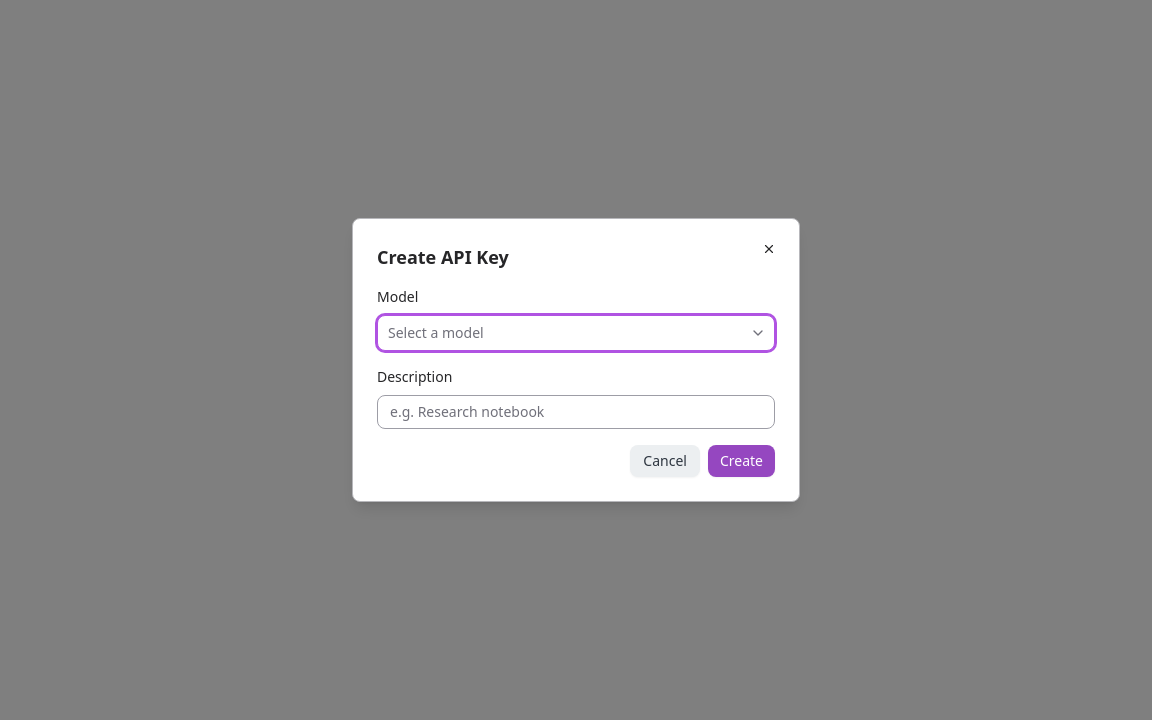
CreateKeyDialog (Nebari Base UI Select) › opens the model select, lists namespaced models, and reflects the choice
Expected: the heading "Create API Key" is shown, [377, 245, 509, 269]
Click the dropdown labelled "model" at (436, 332), box [377, 315, 775, 351]
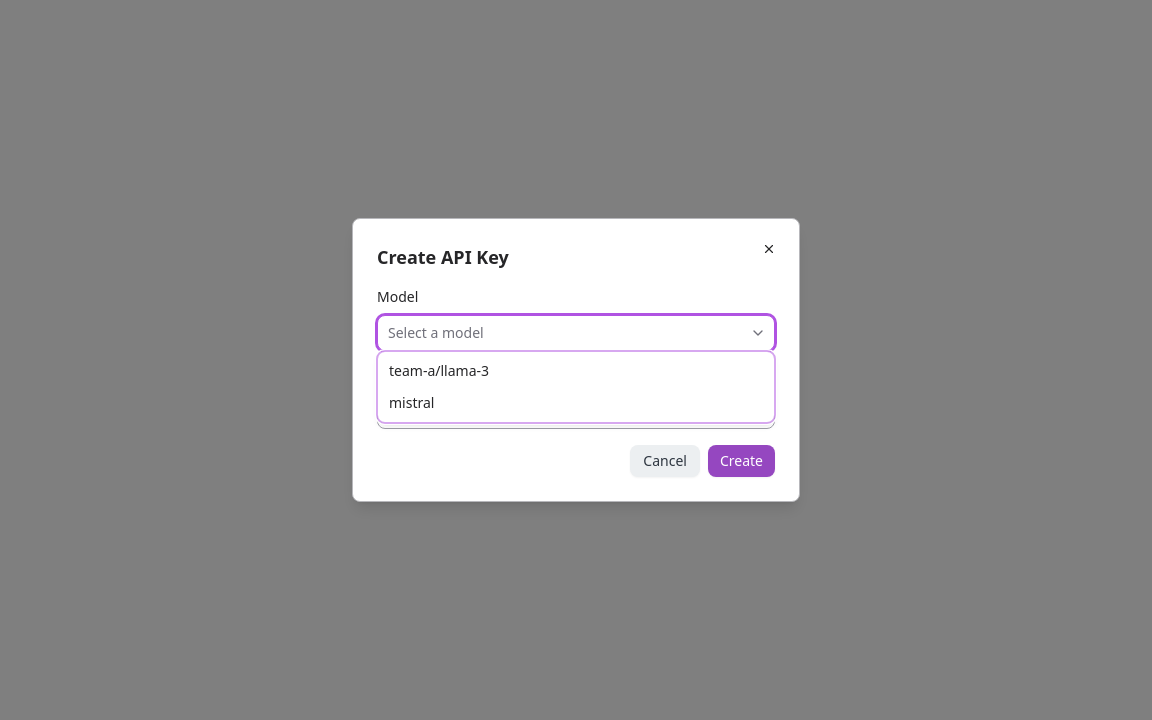
Now the text "team-a/llama-3" is shown
Now the text "mistral" is shown, box [389, 393, 434, 412]
Click the option "team-a/llama-3" at (439, 370), box [389, 361, 489, 380]
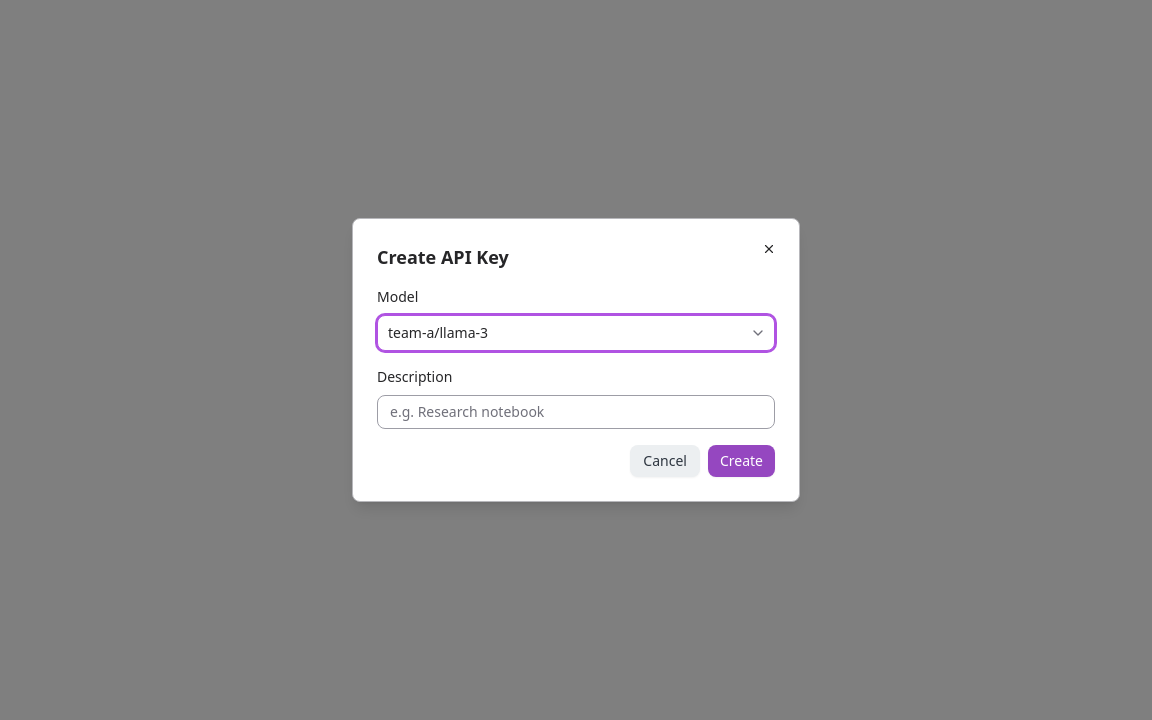
Now the dropdown named "Model" shows "team-a/llama-3", box [377, 315, 775, 351]
